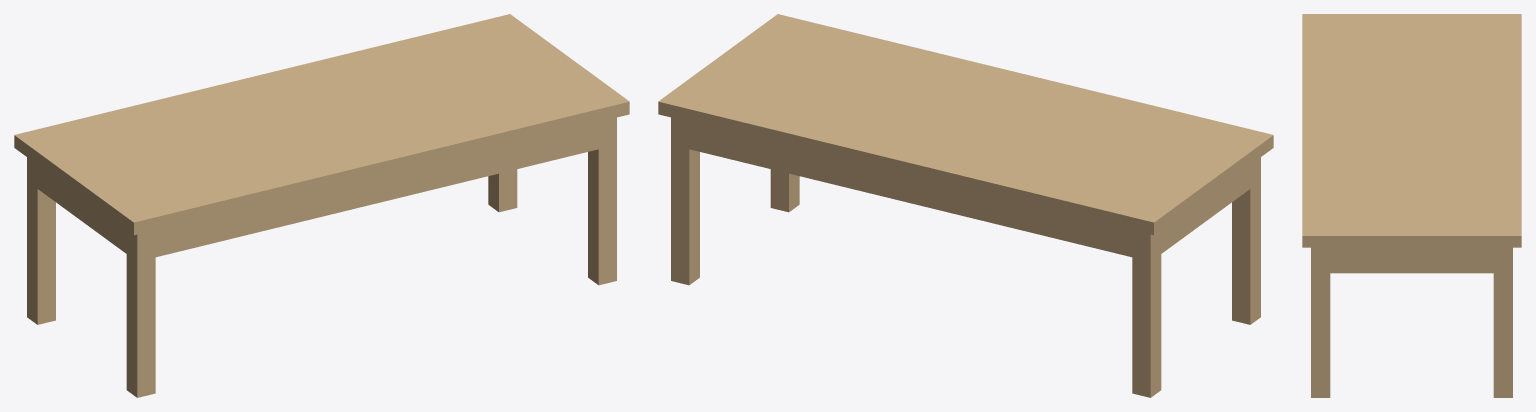
The model's file is coffee_table.dae.
3 renders of one model, left to right at view 1: azimuth 30°, elevation 25°; view 2: azimuth 150°, elevation 25°; view 3: azimuth 270°, elevation 25°, orthographic. The views are drawn at different scales.
Visible parts, largest first — view 1: SketchUp; view 2: SketchUp; view 3: SketchUp.
Part boxes in pixels (left/top/right/bottom): SketchUp: left=14, top=14, right=629, bottom=397; SketchUp: left=658, top=14, right=1273, bottom=397; SketchUp: left=1302, top=14, right=1521, bottom=397.
Size of the model in its own units: 48.03 by 20.08 by 16.73.
1 material, 1 textured.
